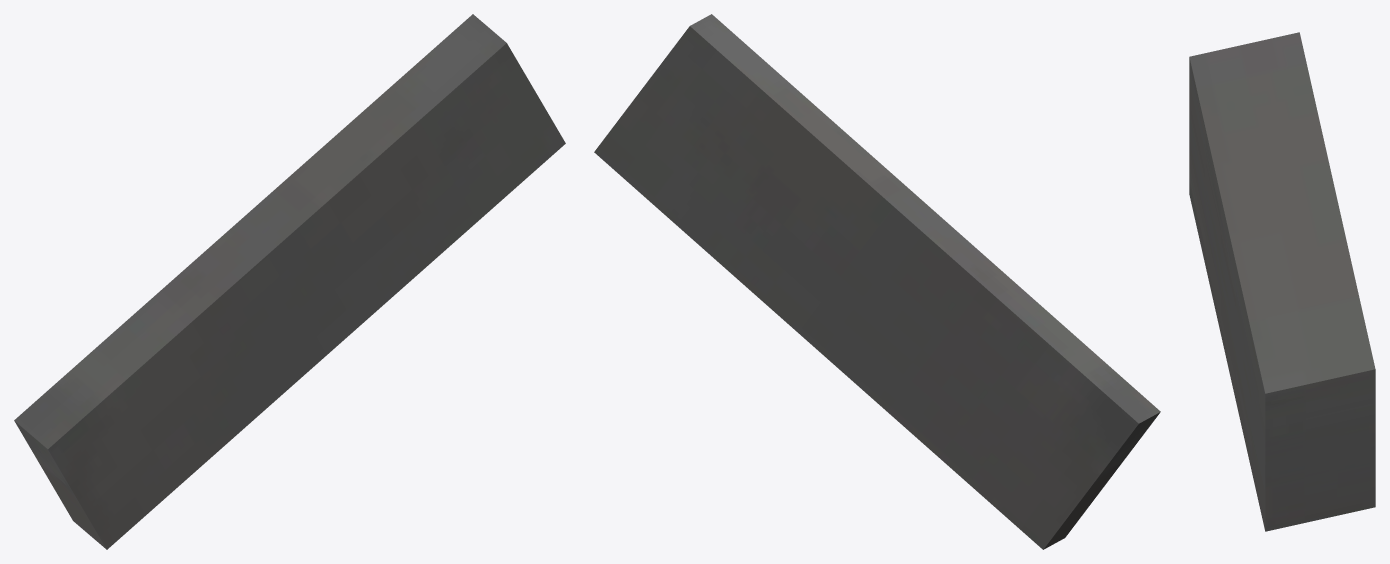
Rendered from fan_right__blade_0.glb.
3 renders of one model, left to right at view 1: azimuth 30°, elevation 25°; view 2: azimuth 150°, elevation 25°; view 3: azimuth 270°, elevation 25°, orthographic. The views are drawn at different scales.
Visible parts, largest first — view 1: world; view 2: world; view 3: world.
Part boxes in pixels (x1,y1,x2,y2): world: (14, 14, 565, 549); world: (594, 14, 1160, 549); world: (1189, 32, 1375, 531).
Bounding box in the file's own units: 0.0282 × 0.0218 × 0.00428.
1 material, 1 textured.
